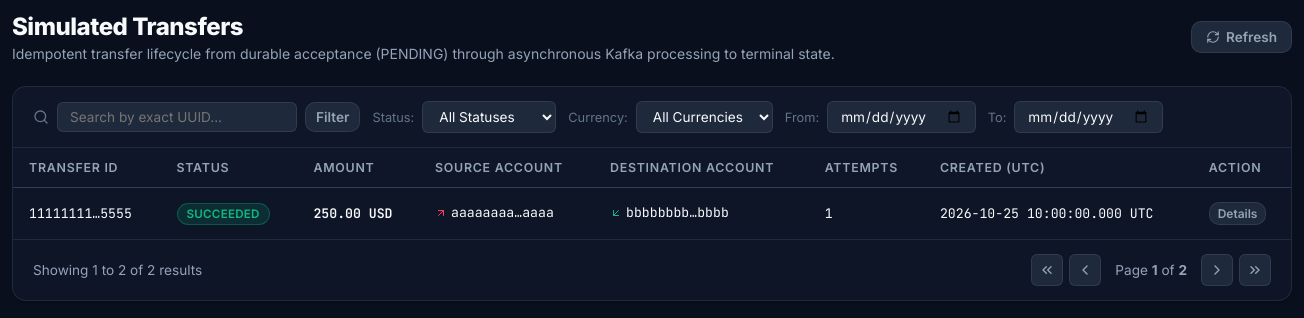
TransfersPage › handles pagination navigation correctly
Check: the text "250.00 USD" is shown, box [297,188,419,239]
Click the button named "next page" at (1217, 270), box [1201,254,1233,286]
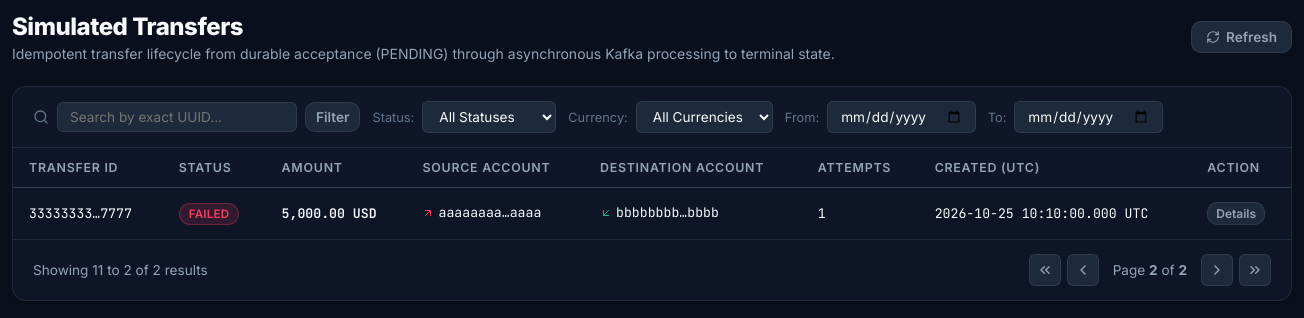
Check: the text "5,000.00 USD" is shown, box [266,188,406,239]
